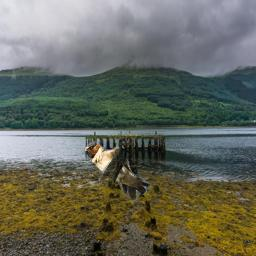Swallow: (83, 141, 151, 201)
